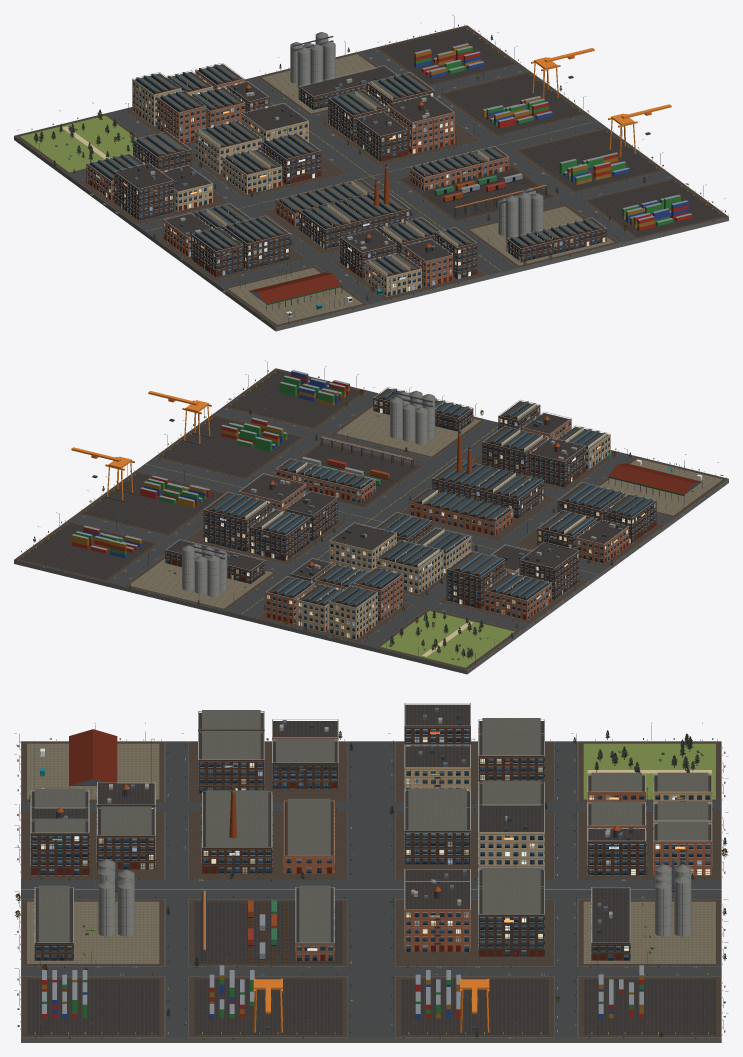
Rendered from world-foundry.glb.
3 views of the same model, one above another, from view 1: azimuth 30°, elevation 25°; view 2: azimuth 150°, elevation 25°; view 3: azimuth 270°, elevation 25° (orthographic). The views are drawn at different scales.
Visible parts, largest first — view 1: Road, Sidewalk, Props, b03_Props, b32_bitumen, b31_bitumen, b33_bitumen, b10_Props, b22_Props, b00_floor, b20_Props, b30_bitumen (+64 smaller); view 2: Road, Sidewalk, Props, b03_Props, b31_bitumen, b32_bitumen, b22_brick_dark, b33_bitumen, b22_Props, b30_bitumen, b13_Props, b02_Props (+60 smaller); view 3: Road, Sidewalk, Props, b31_bitumen, b32_bitumen, b33_bitumen, b30_bitumen, b21_bitumen, b11_corrugated, b13_corrugated, b20_floor, b23_floor (+53 smaller).
Boxes of the visible parts, x1,y1,x2,y2 form: Road: [68, 48, 674, 304]; Sidewalk: [15, 25, 728, 326]; Props: [14, 25, 728, 331]; b03_Props: [14, 102, 144, 172]; b32_bitumen: [443, 73, 582, 134]; b31_bitumen: [520, 130, 659, 190]; b33_bitumen: [380, 27, 514, 84]; b10_Props: [331, 217, 486, 300]; b22_Props: [319, 72, 480, 166]; b00_floor: [228, 267, 362, 324]; b20_Props: [464, 188, 619, 265]; b30_bitumen: [588, 180, 722, 236]; Road: [68, 391, 674, 647]; Sidewalk: [15, 368, 728, 669]; Props: [14, 368, 728, 674]; b03_Props: [380, 600, 518, 668]; b31_bitumen: [160, 416, 299, 477]; b32_bitumen: [83, 473, 222, 533]; b22_brick_dark: [203, 498, 337, 561]; b33_bitumen: [20, 523, 154, 579]; b22_Props: [190, 473, 345, 564]; b30_bitumen: [228, 370, 361, 427]; b13_Props: [261, 558, 410, 641]; b02_Props: [438, 542, 587, 623]; Road: [21, 741, 721, 1037]; Sidewalk: [21, 741, 721, 1036]; Props: [21, 741, 721, 1042]; b31_bitumen: [194, 979, 342, 1034]; b32_bitumen: [400, 979, 548, 1034]; b33_bitumen: [583, 979, 715, 1034]; b30_bitumen: [27, 979, 159, 1034]; b21_bitumen: [194, 888, 342, 963]; b11_corrugated: [206, 790, 330, 855]; b13_corrugated: [591, 772, 708, 840]; b20_floor: [27, 901, 159, 963]; b23_floor: [583, 901, 715, 963].
Size of the model in its own units: 390 by 49.2 by 367.
23 materials, 23 textured.
